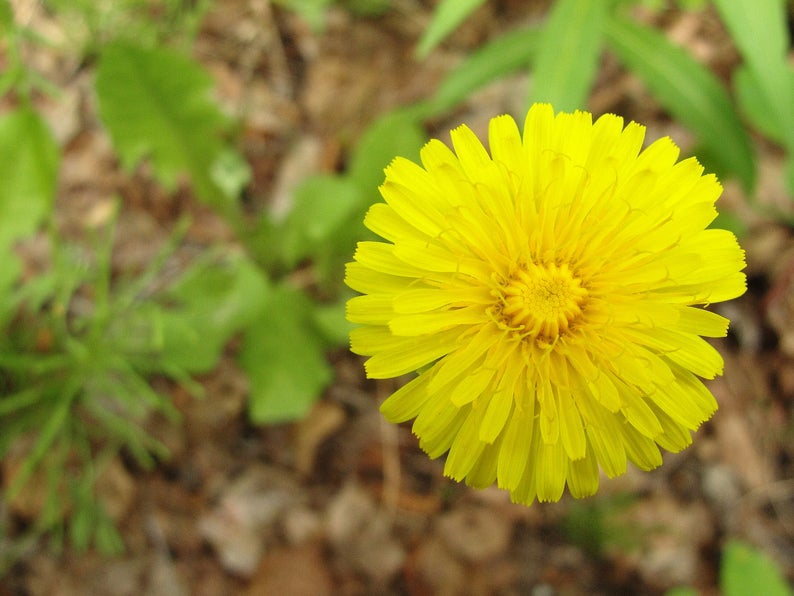dandelion: (339, 146, 739, 490)
